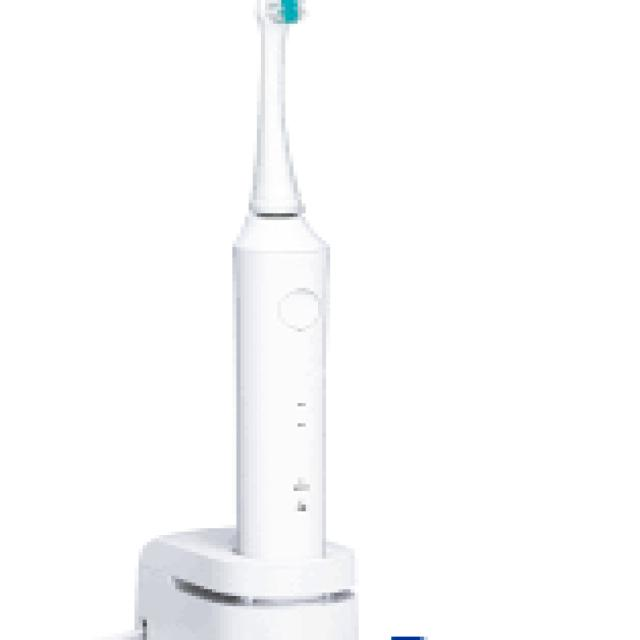organic: (191, 0, 362, 614)
